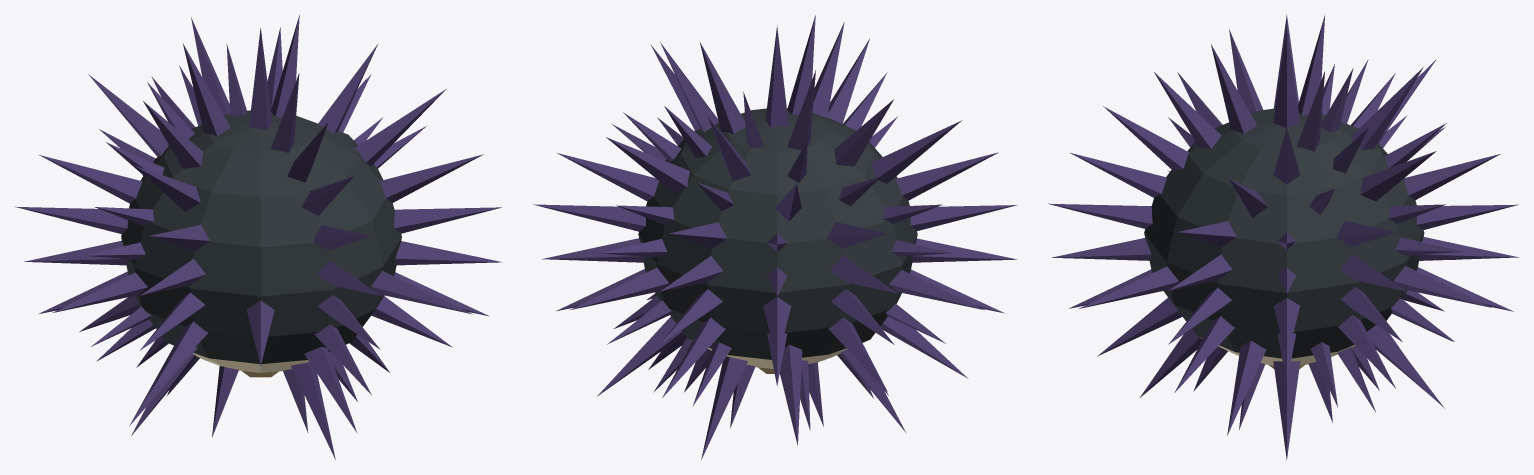
File: sea-urchin-b599d4.glb
3 renders of one model, left to right at view 1: azimuth 30°, elevation 25°; view 2: azimuth 150°, elevation 25°; view 3: azimuth 270°, elevation 25°, orthographic.
Parts seen in each view (by area): view 1: urchin-body; view 2: urchin-body; view 3: urchin-body.
Part boxes in pixels (<box>): urchin-body: <box>14,15,502,459</box>; urchin-body: <box>532,15,1017,459</box>; urchin-body: <box>1048,14,1518,460</box>.
Size of the model in its own units: 0.3417 by 0.2979 by 0.3399.
